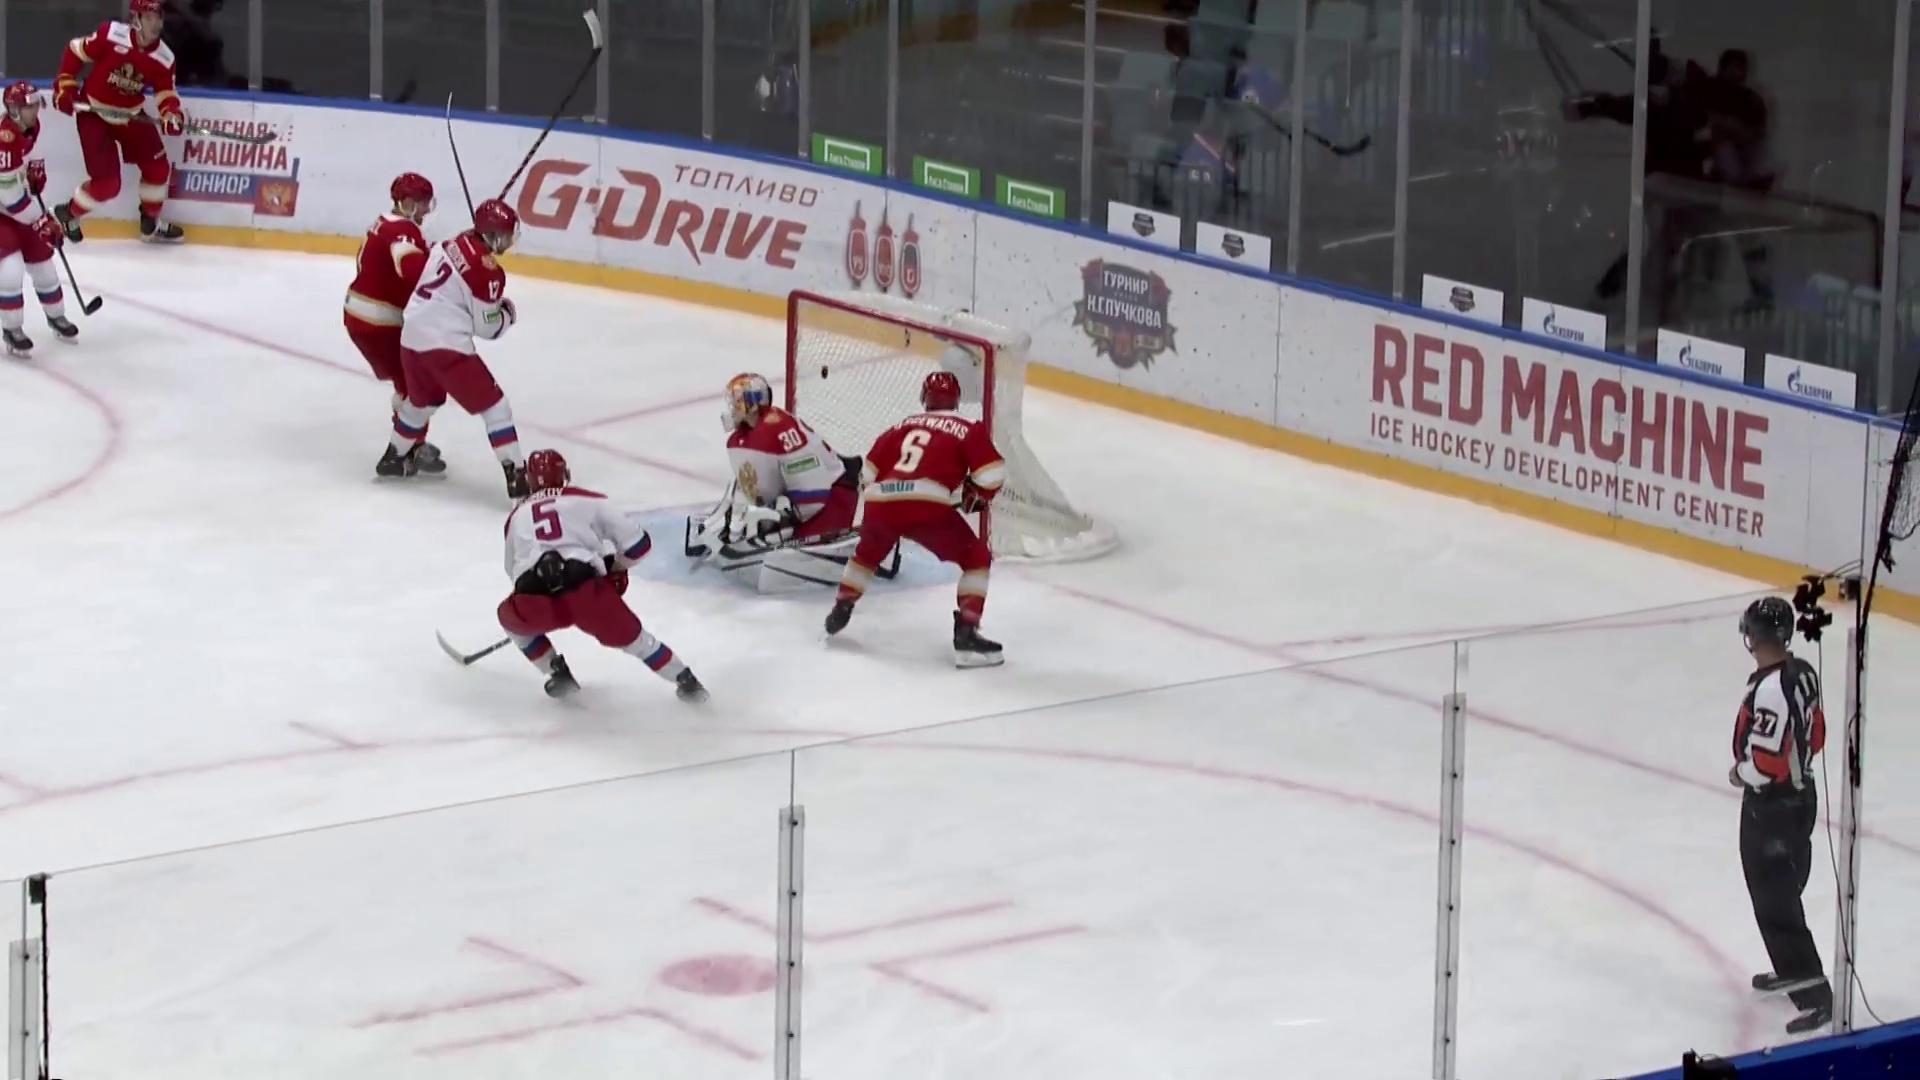ball: (818, 365, 832, 382)
